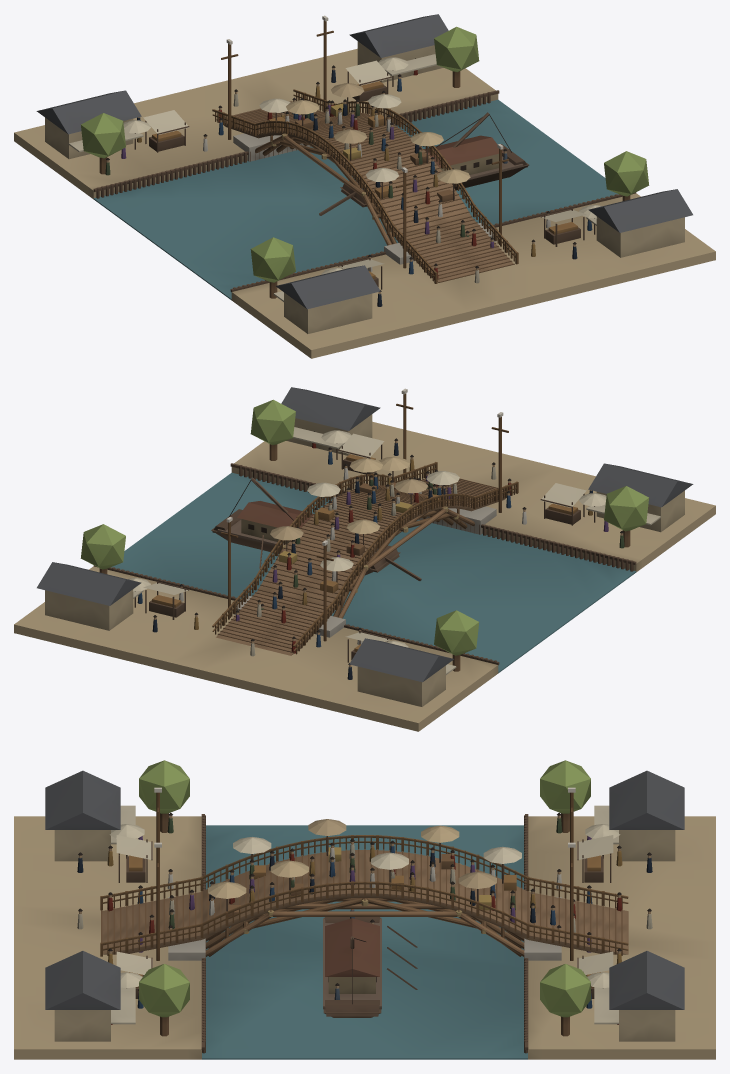
File: rainbow-bridge.glb
3 renders of one model, top to bottom at view 1: azimuth 30°, elevation 25°; view 2: azimuth 150°, elevation 25°; view 3: azimuth 270°, elevation 25°, orthographic. The views are drawn at different scales.
Visible parts, largest first — view 1: p0_banks, p2_life, p1_deck; view 2: p0_banks, p2_life, p1_deck; view 3: p0_banks, p2_life, p1_deck.
Part boxes in pixels (x1,y1,x2,y2): p0_banks: (14,48,715,358); p2_life: (36,14,692,333); p1_deck: (216,101,514,282); p0_banks: (14,421,715,731); p2_life: (37,387,693,706); p1_deck: (216,478,513,655); p0_banks: (14,814,715,1059); p2_life: (45,760,684,1041); p1_deck: (101,849,628,956).
Size of the model in its own units: 44 by 11.2 by 56.
